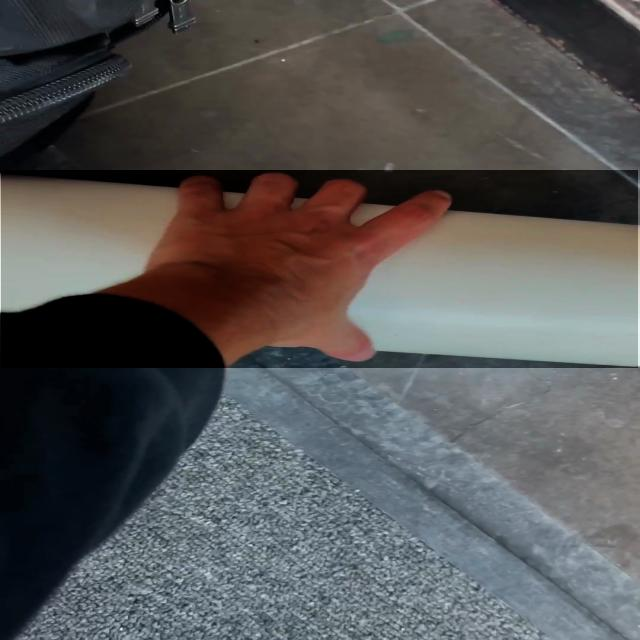Coral: (1, 170, 638, 368)
